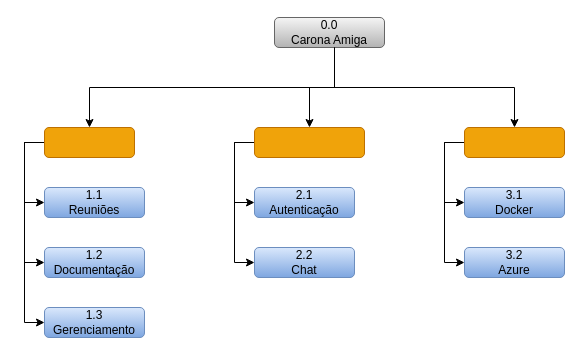
Image size: 582x355. Some labels were removed from this diagram. The centre of each missing label's shape, as x and y in pixels:
"1.0 Planejamento" belongs at (89,142).
"2.0 Desenvolvimento" belongs at (309,142).
"3.0 Clouding" belongs at (514,142).
